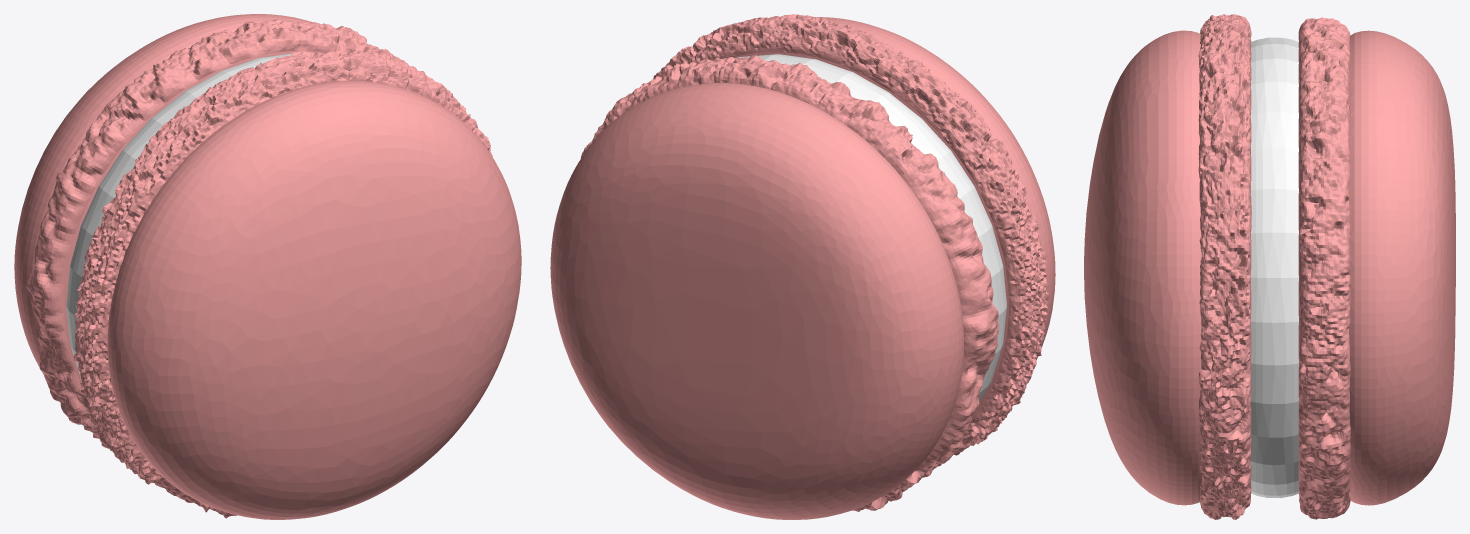
The model's file is macaron.all.glb.
3 renders of one model, left to right at view 1: azimuth 30°, elevation 25°; view 2: azimuth 150°, elevation 25°; view 3: azimuth 270°, elevation 25°, orthographic. The views are drawn at different scales.
Visible parts, largest first — view 1: Cube.652; view 2: Cube.652; view 3: Cube.652.
Boxes of the visible parts, x1,y1,x2,y2 form: Cube.652: [14, 14, 521, 519]; Cube.652: [550, 14, 1055, 519]; Cube.652: [1084, 14, 1455, 519].
Size of the model in its own units: 15.74 by 15.85 by 11.55.
